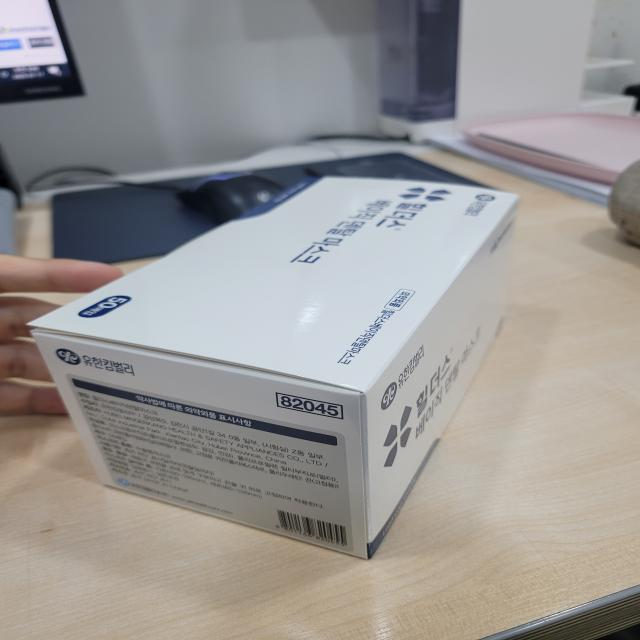mask: (18, 142, 570, 586)
